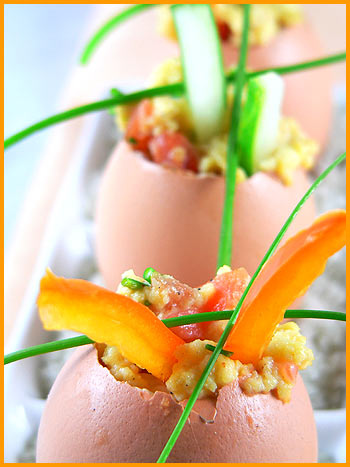egg: (32, 254, 320, 465), (94, 138, 317, 303)
